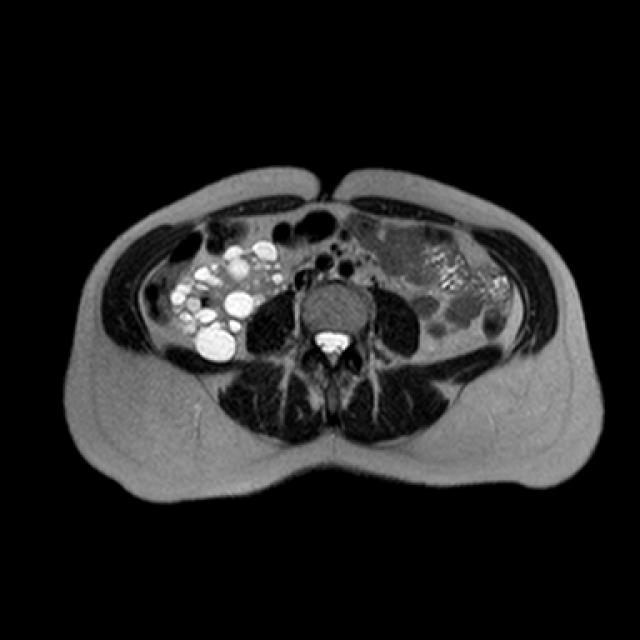sag: (170, 238, 288, 363)
